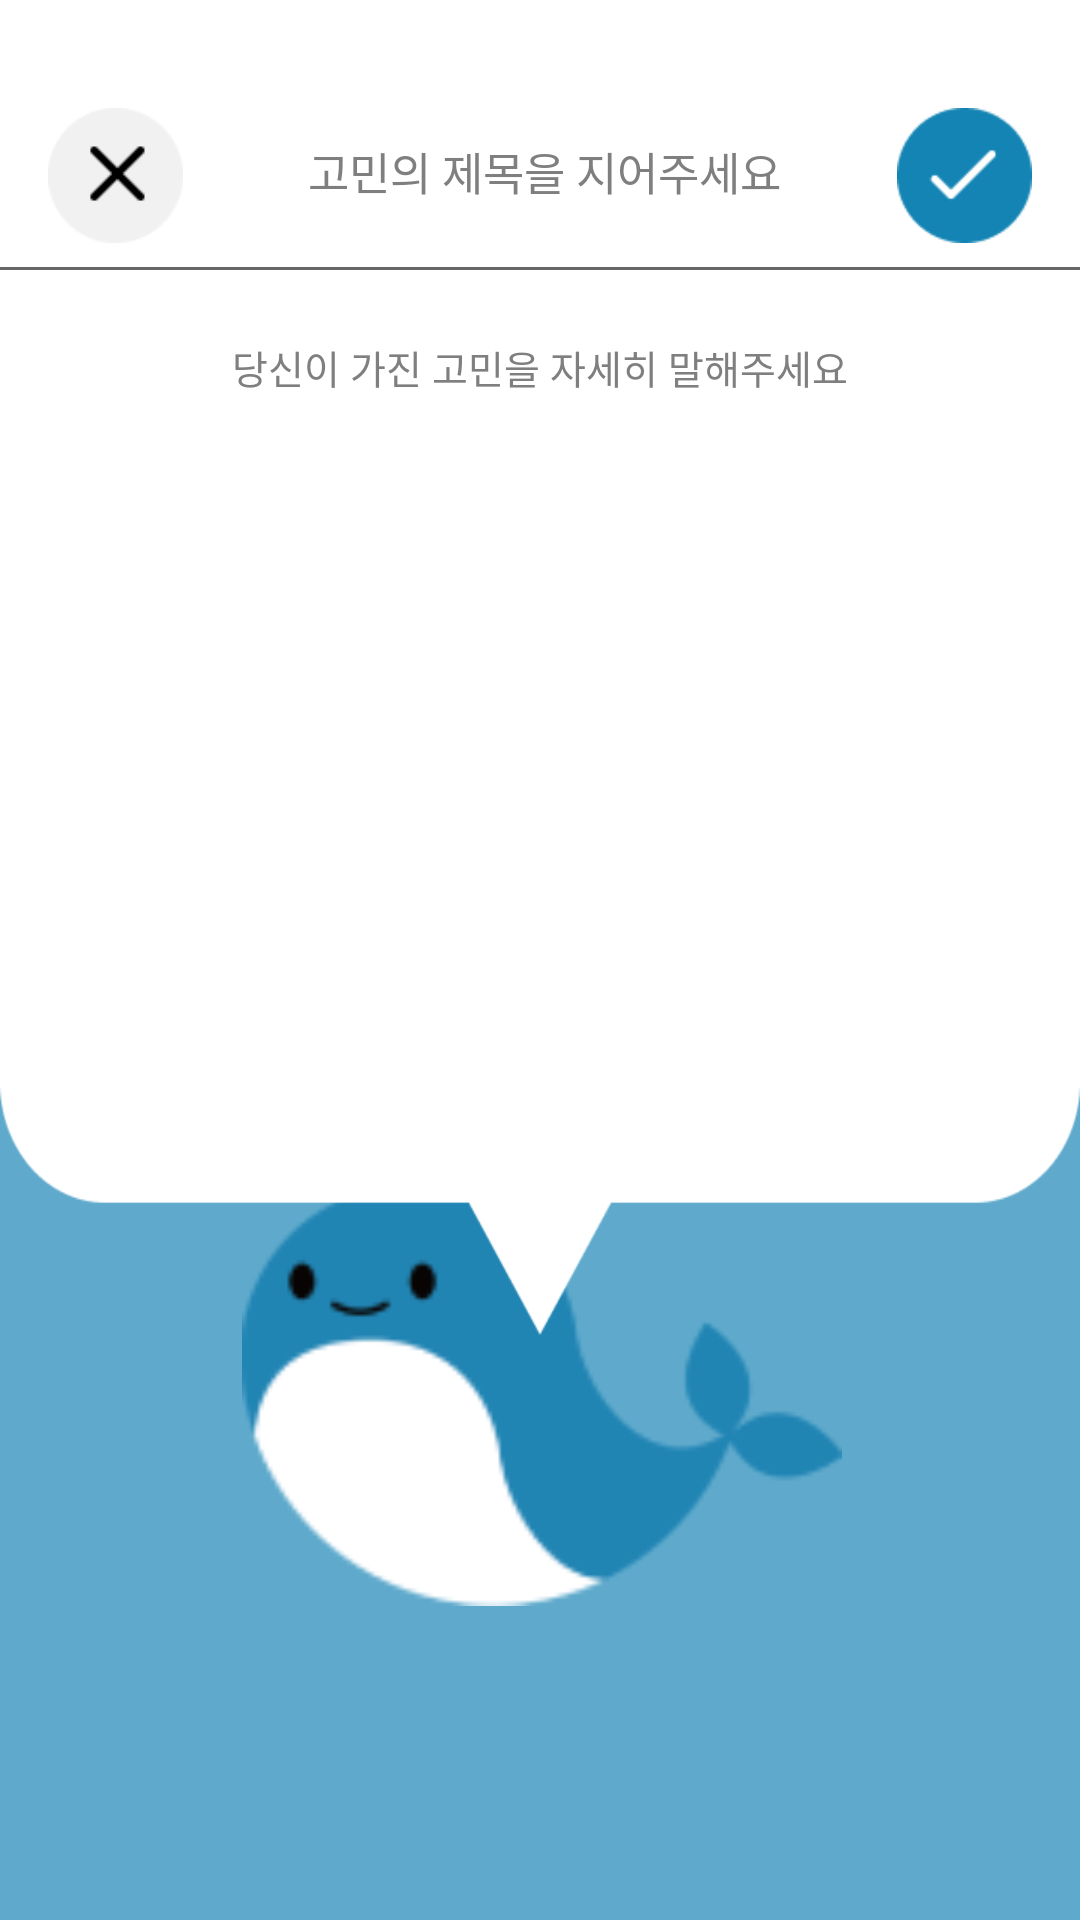

Screen size 1080x1920. Icon name, then its center in pixels as (x,y):
cancelbtn: (117,173)
